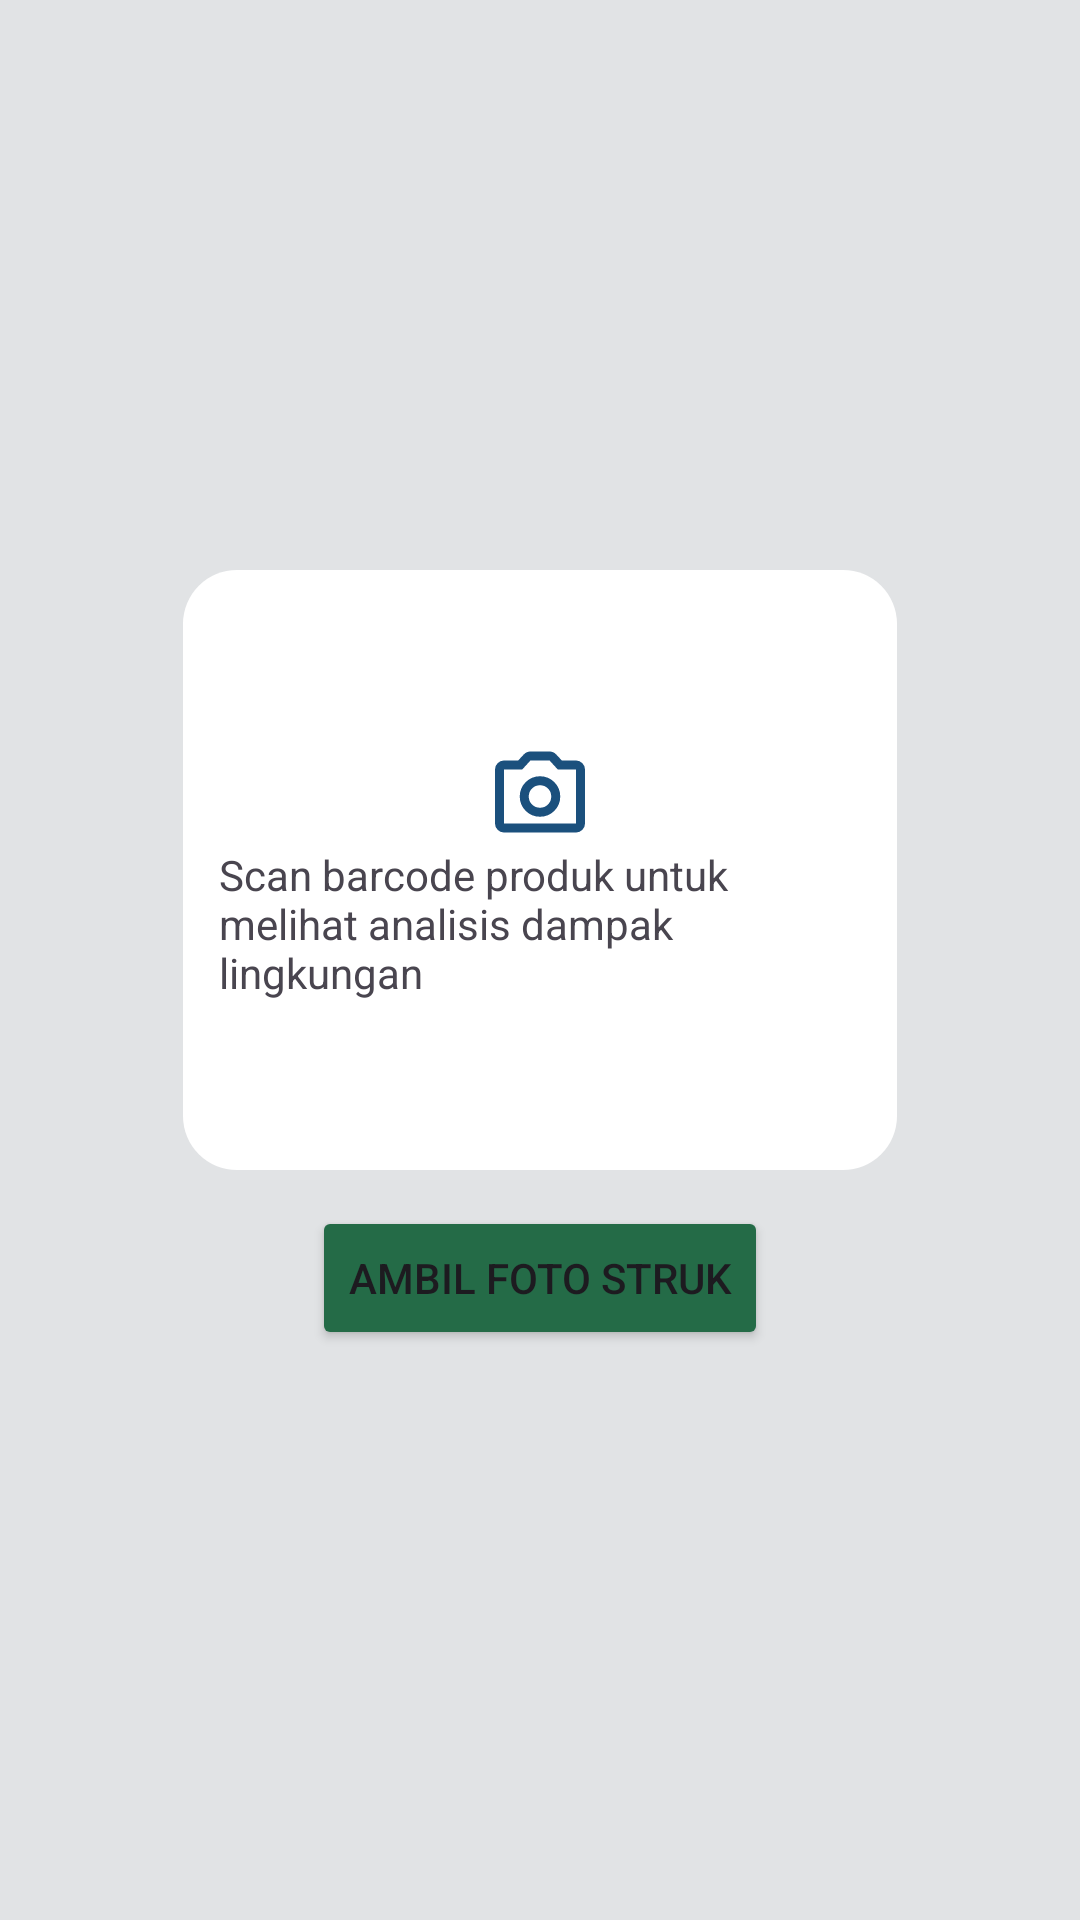

Where icons sit on this 1080 x 1920 app screen, as (x1, y1, x2, y2):
photo camera: (495, 751, 585, 833)
